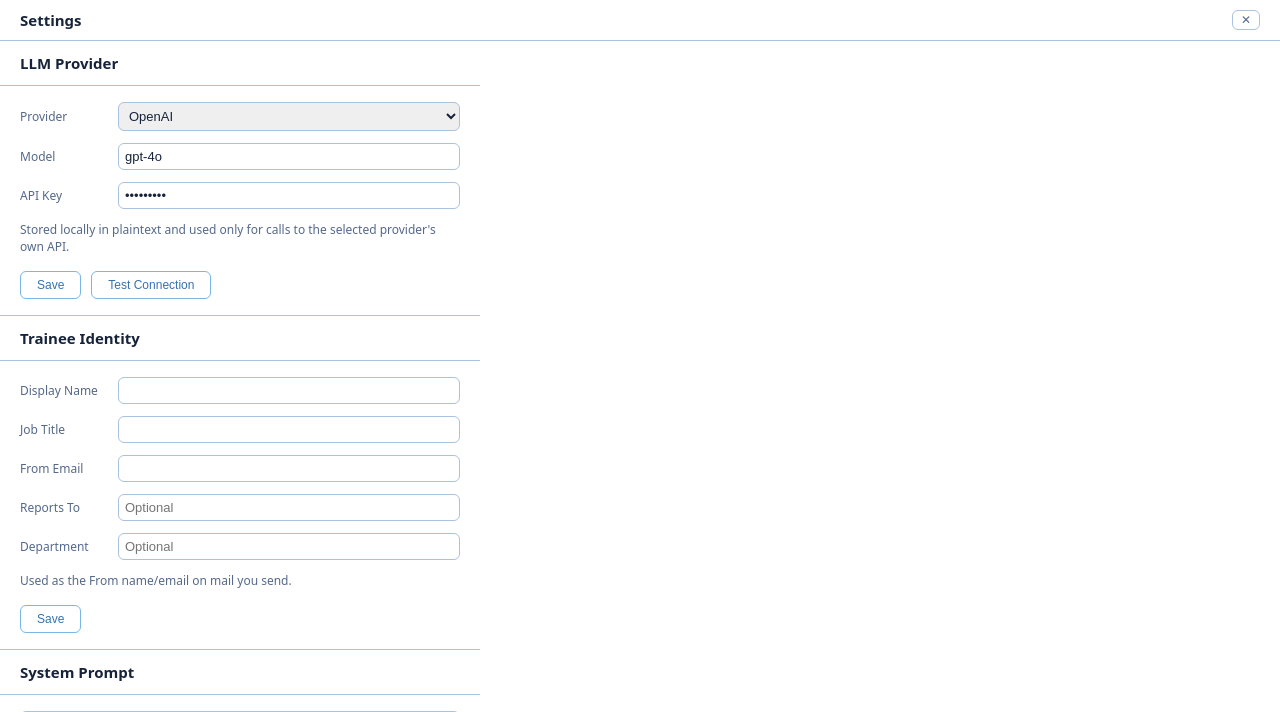
Test: SettingsView › Test Connection › 027 AC1: Dismiss clears the error without changing any field
Expected: the dropdown labelled "Provider" is shown, 118,102 -> 460,131
Click the button "Test Connection".
click(151, 285)  # box 91,271 -> 212,299
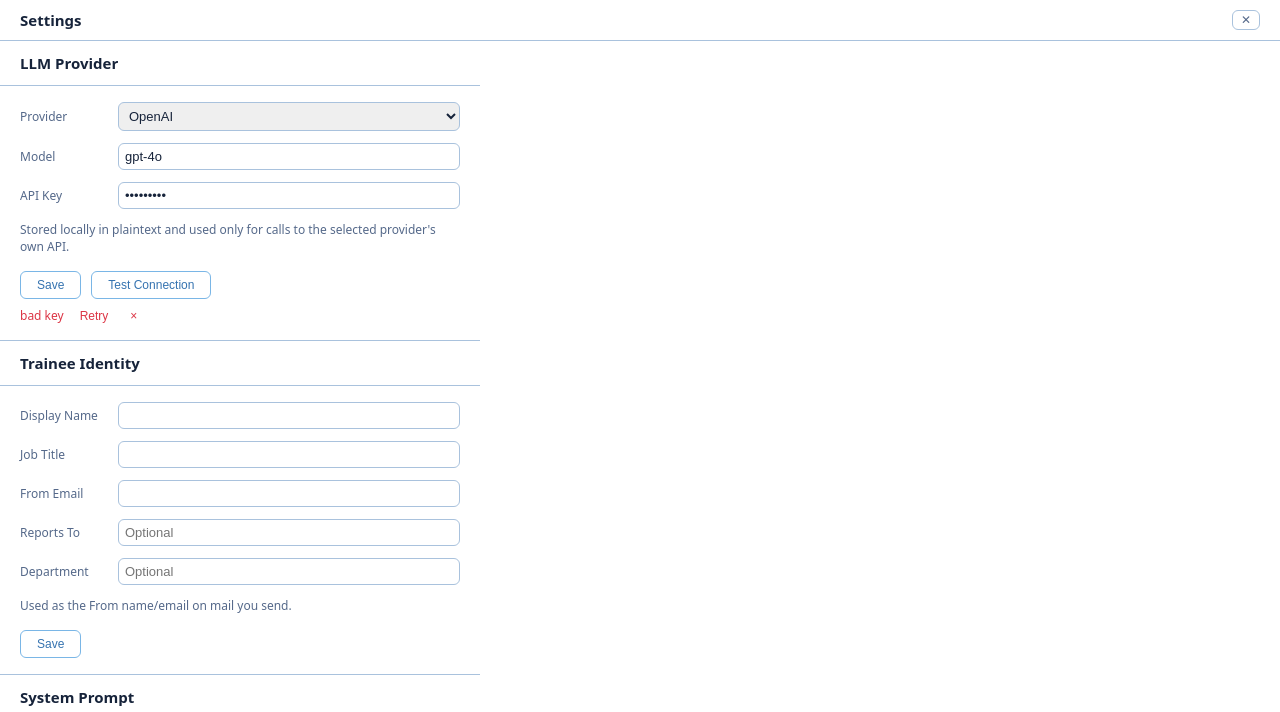
Result: the text "bad key" is shown at 20,307 -> 64,324
Click the button named "Dismiss test result".
click(134, 316)  # box 124,308 -> 143,324
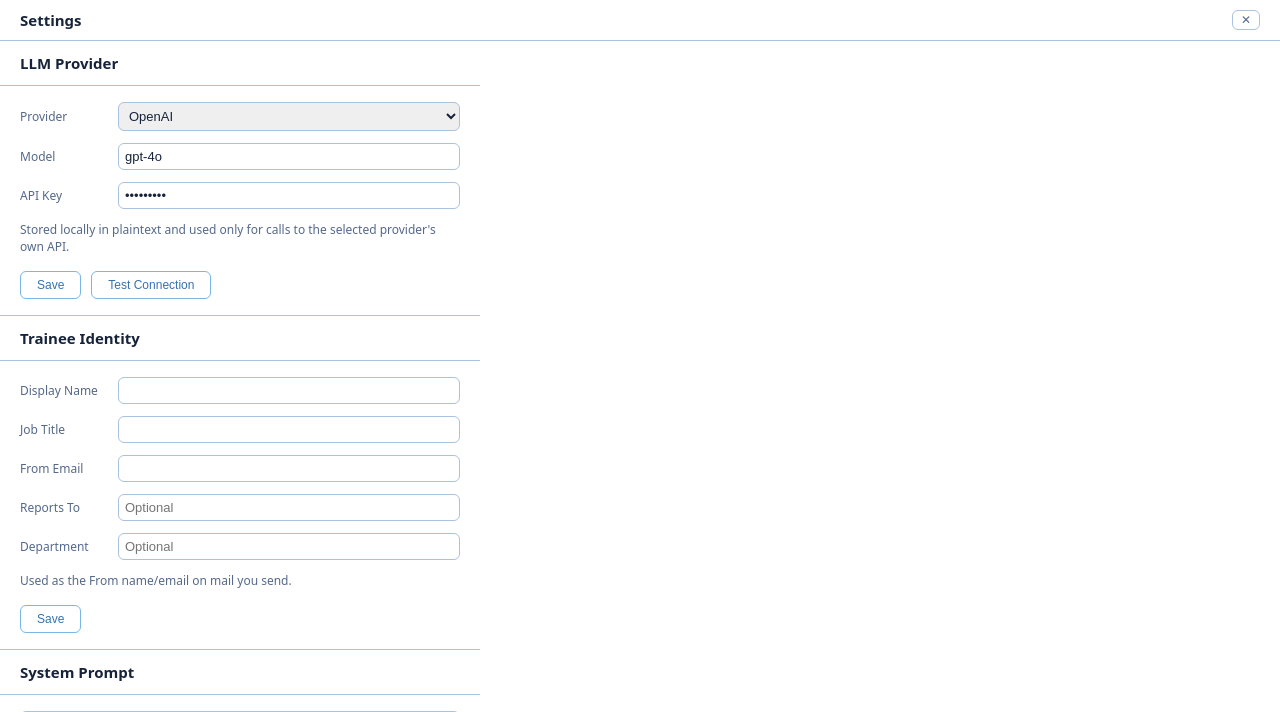
Expected: the field labelled "Model" holds "gpt-4o", 118,143 -> 460,170
Result: the text "bad key" is gone
